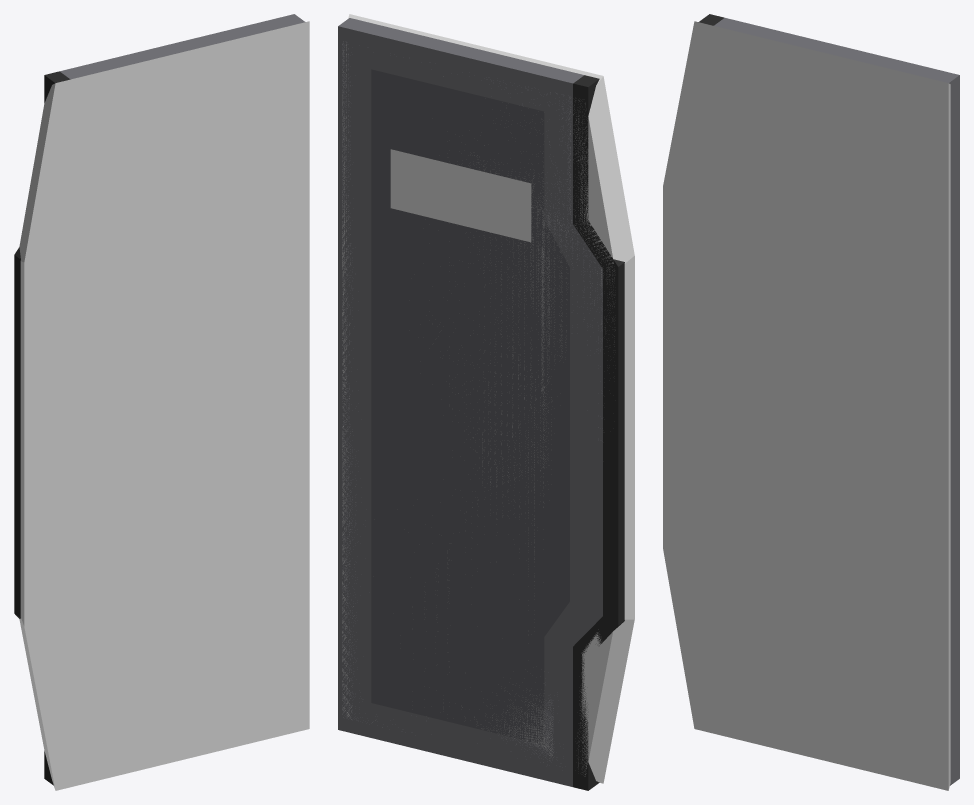
File: SM_Bld_Lift_Wall_Door_01.fbx
3 renders of one model, left to right at view 1: azimuth 30°, elevation 25°; view 2: azimuth 150°, elevation 25°; view 3: azimuth 330°, elevation 25°, orthographic.
Parts seen in each view (by area): view 1: SM_Bld_Lift_Wall_Door_01_ConvexHulls, SM_Bld_Lift_Wall_Door_01_LOD0; view 2: SM_Bld_Lift_Wall_Door_01_LOD0, SM_Bld_Lift_Wall_Door_01_ConvexHulls; view 3: SM_Bld_Lift_Wall_Door_01_ConvexHulls, SM_Bld_Lift_Wall_Door_01_LOD0.
Part boxes in pixels (x1=…): SM_Bld_Lift_Wall_Door_01_ConvexHulls: x1=19, y1=21, x2=309, y2=790; SM_Bld_Lift_Wall_Door_01_LOD0: x1=14, y1=14, x2=305, y2=785; SM_Bld_Lift_Wall_Door_01_LOD0: x1=338, y1=18, x2=624, y2=790; SM_Bld_Lift_Wall_Door_01_ConvexHulls: x1=342, y1=14, x2=634, y2=783; SM_Bld_Lift_Wall_Door_01_ConvexHulls: x1=663, y1=21, x2=950, y2=790; SM_Bld_Lift_Wall_Door_01_LOD0: x1=698, y1=14, x2=959, y2=785.
Bounding box in the file's own units: 8.03 × 99.89 × 237.
Materials: 1 (1 with a texture image).
